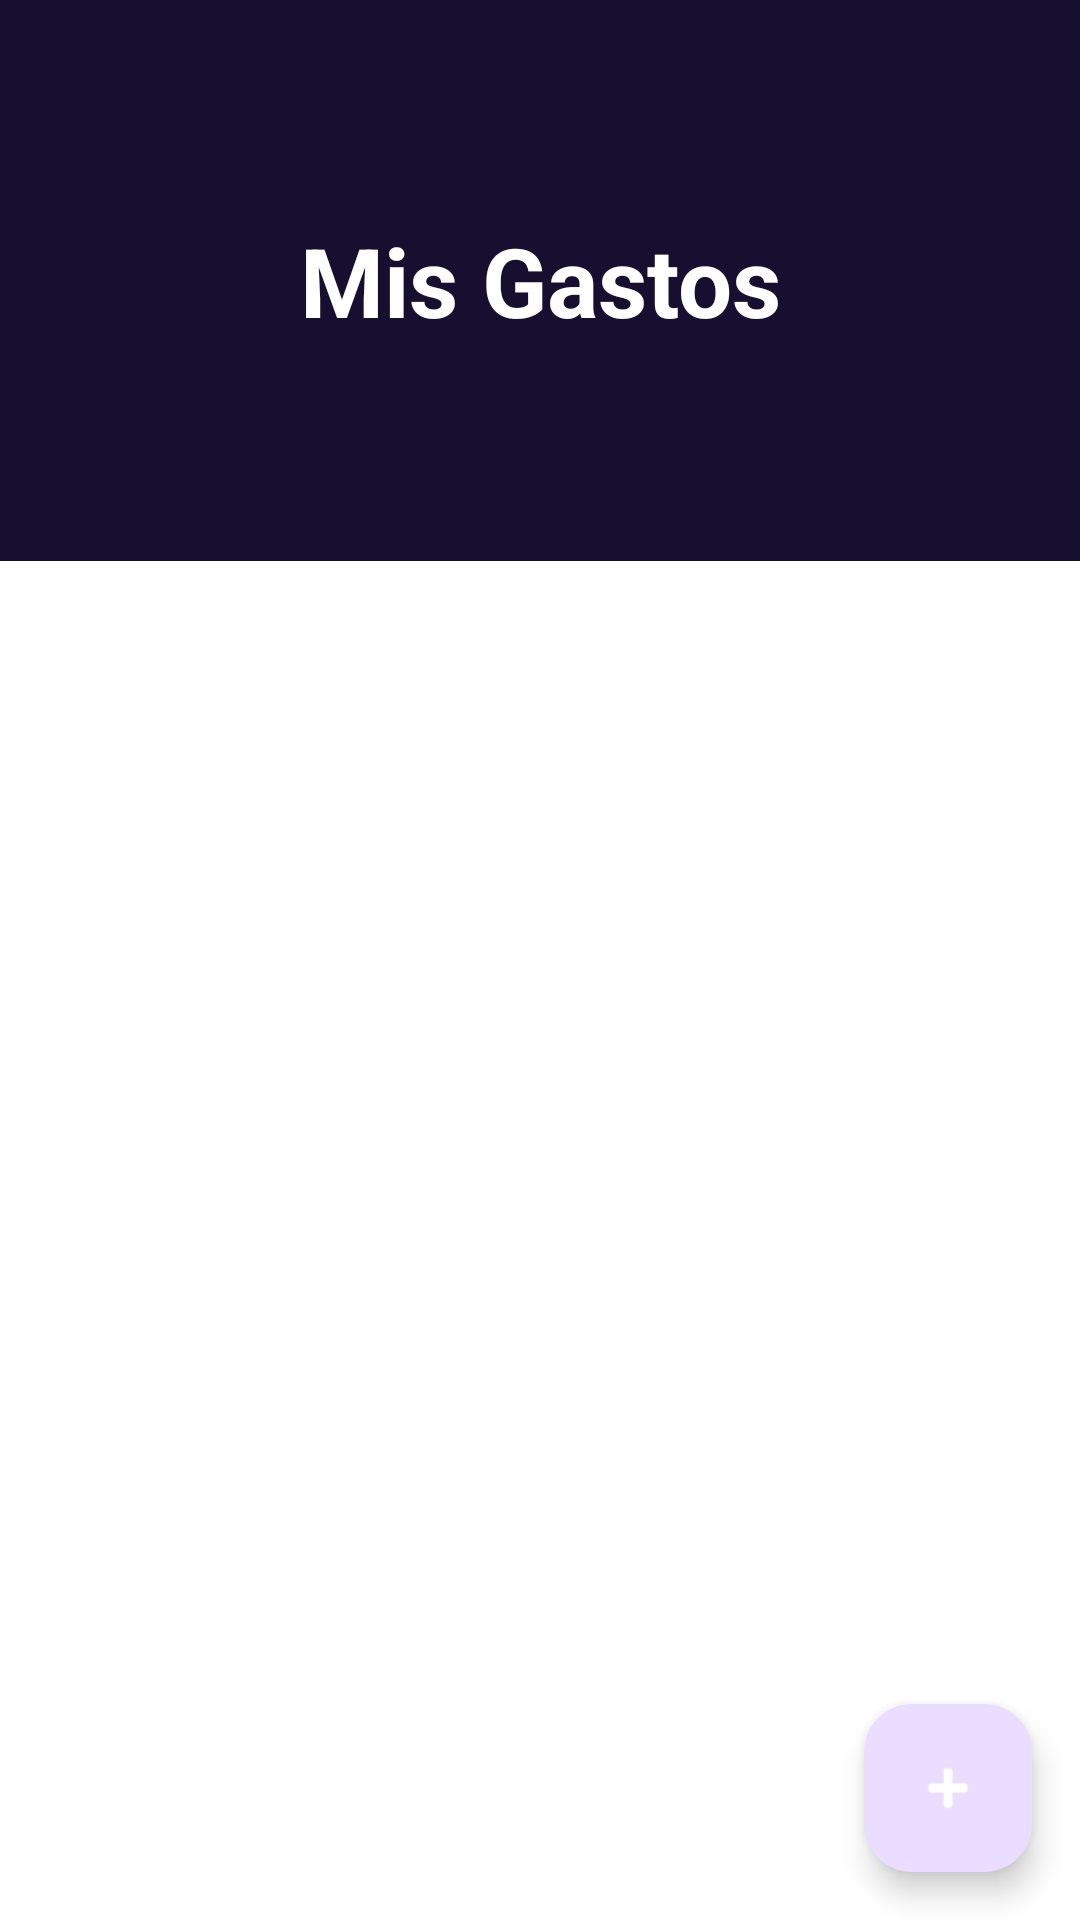

Icon bounding boxes for this 1080px x 1920px phone screenshot, format [left=x1, top=y1, right=x2, bottom=y2]:
Registrar nuevo gasto: [left=864, top=1704, right=1032, bottom=1872]
